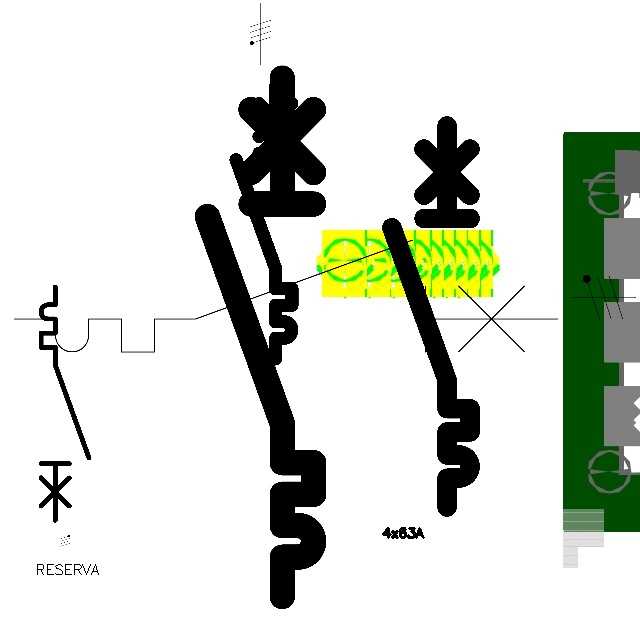interruptor_termomagnetico: (0, 226, 572, 366), (194, 64, 327, 609), (382, 116, 480, 517), (229, 80, 299, 366), (35, 281, 95, 526)
